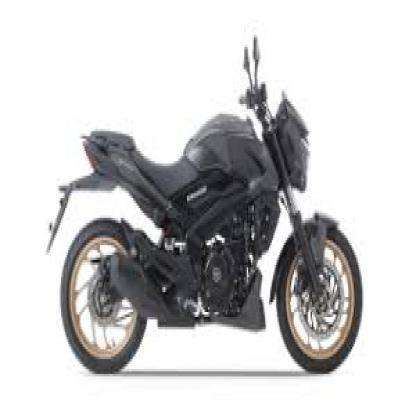Motorcycle: (36, 30, 366, 380)
